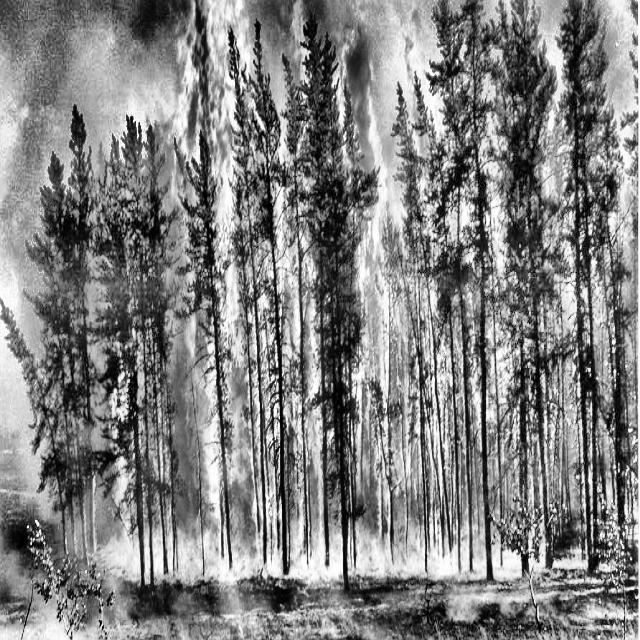fire: (84, 23, 593, 592)
